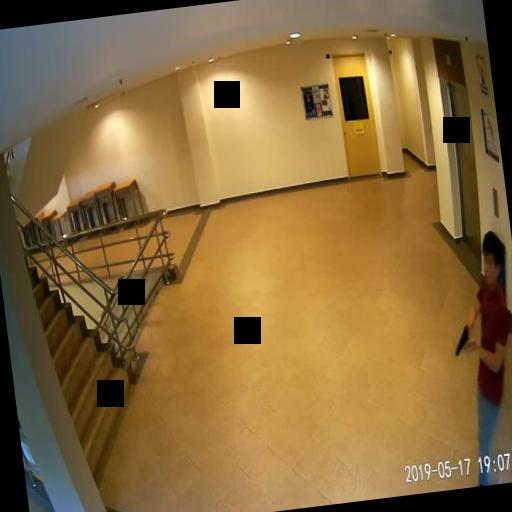Handgun: (452, 322, 470, 354)
